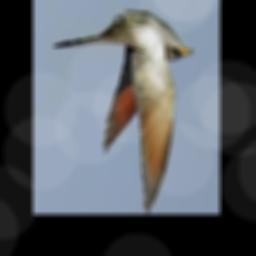Cuckoo: (53, 13, 192, 215)
